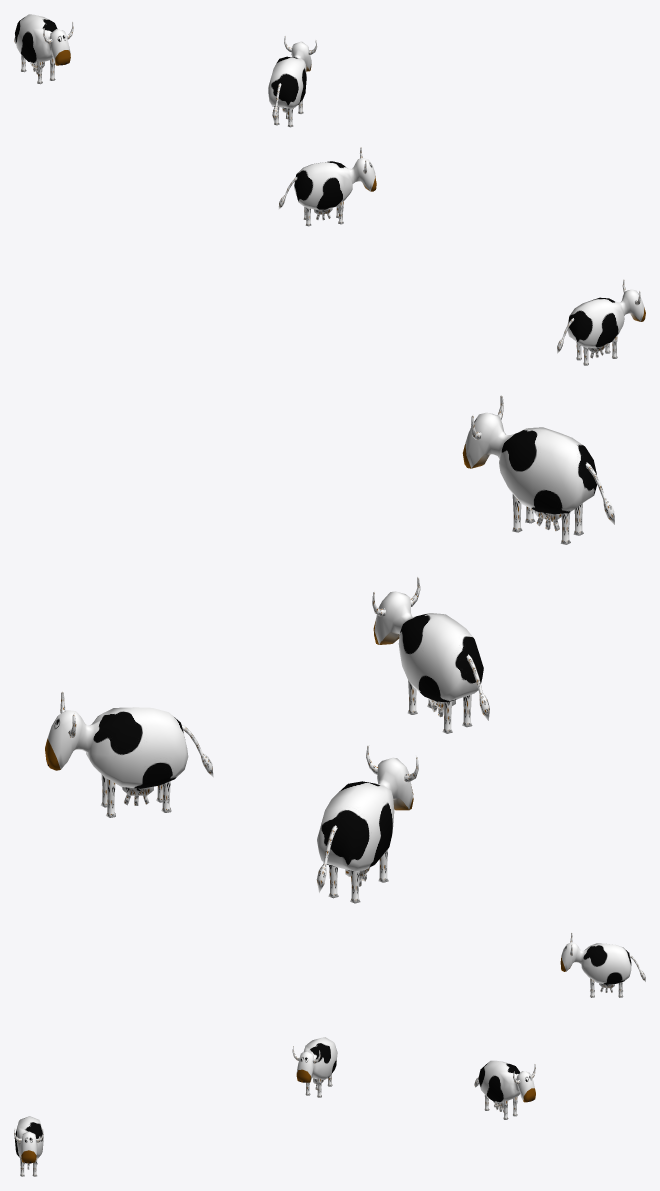
File: cow.glb
The picture shows the model from 3 angles, top to bottom: view 1: azimuth 30°, elevation 25°; view 2: azimuth 150°, elevation 25°; view 3: azimuth 270°, elevation 25°; orthographic projection. The views are drawn at different scales.
Visible parts, largest first — view 1: cow.jpg__; view 2: cow.jpg__; view 3: cow.jpg__.
Boxes of the visible parts, x1,y1,x2,y2 form: cow.jpg__: (14,14,645,365); cow.jpg__: (45,395,614,903); cow.jpg__: (14,932,645,1176).
Size of the model in its own units: 43.05 by 22.89 by 95.59.
1 material, 1 textured.
